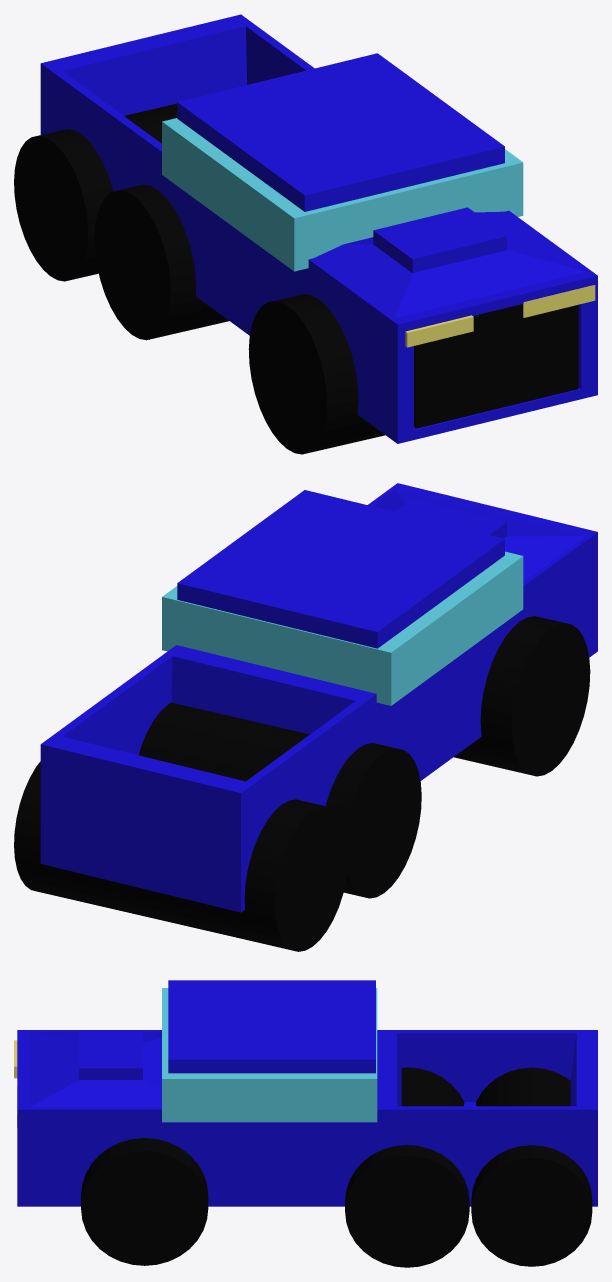
Rendered from ramblu.glb.
3 views of the same model, one above another, from view 1: azimuth 30°, elevation 25°; view 2: azimuth 150°, elevation 25°; view 3: azimuth 270°, elevation 25° (orthographic). The views are drawn at different scales.
Visible parts, largest first — view 1: Cube, Куб, Куб.001, Циліндр.002, Циліндр, Циліндр.001, Куб.002, Куб.003; view 2: Cube, Циліндр.001, Куб, Циліндр, Циліндр.002; view 3: Cube, Циліндр.001, Циліндр, Циліндр.002, Куб.
Boxes of the visible parts, x1,y1,x2,y2 form: Cube: (40,14,597,443); Куб: (162,118,523,271); Куб.001: (414,304,578,428); Циліндр.002: (248,294,384,454); Циліндр: (94,184,228,340); Циліндр.001: (14,103,177,281); Куб.002: (523,285,595,317); Куб.003: (405,315,473,347); Cube: (40,483,597,912); Циліндр.001: (14,761,348,951); Куб: (162,551,523,705); Циліндр: (138,702,421,898); Циліндр.002: (454,616,590,776); Cube: (17,980,597,1206); Циліндр.001: (471,1067,592,1266); Циліндр: (345,1067,469,1267); Циліндр.002: (81,1138,208,1265); Куб: (162,988,377,1122).
Bounding box in the file's own units: 2.54 × 2.23 × 5.95.
